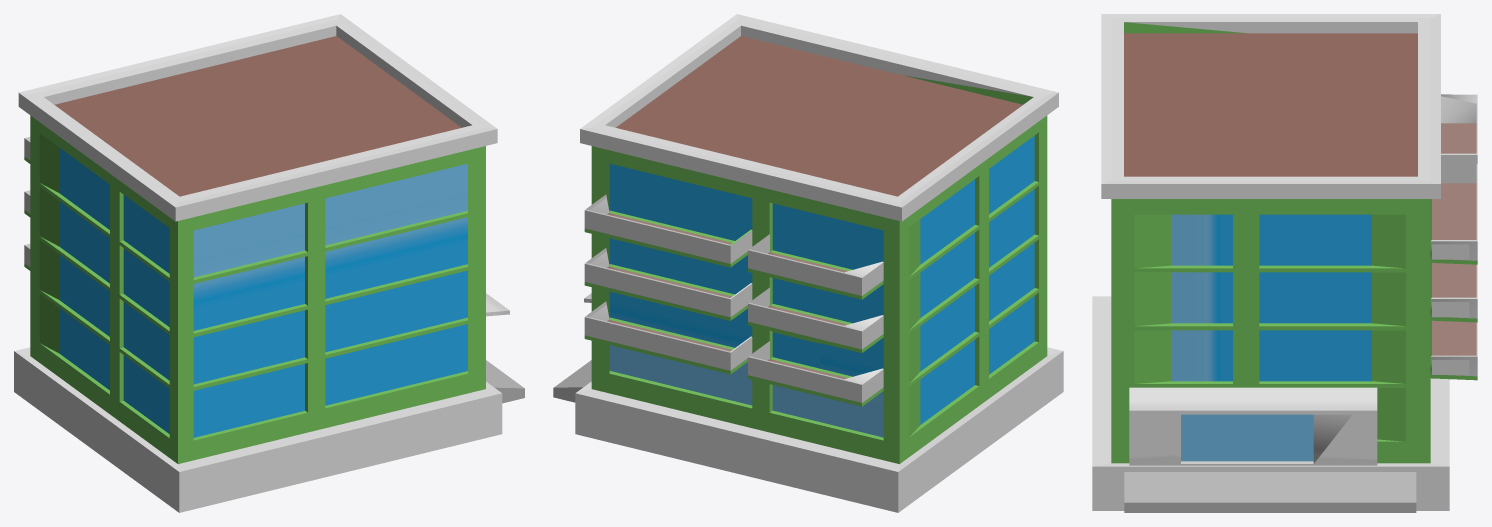
The model's file is GreenBuilding4x5x5.fbx.
The picture shows the model from 3 angles, left to right: view 1: azimuth 30°, elevation 25°; view 2: azimuth 150°, elevation 25°; view 3: azimuth 270°, elevation 25°; orthographic projection. The views are drawn at different scales.
Visible parts, largest first — view 1: House; view 2: House; view 3: House.
Boxes of the visible parts, x1,y1,x2,y2 form: House: [14, 14, 524, 512]; House: [553, 14, 1063, 512]; House: [1092, 14, 1477, 512].
Size of the model in its own units: 6.24 by 5 by 5.34.
1 material, 1 textured.
